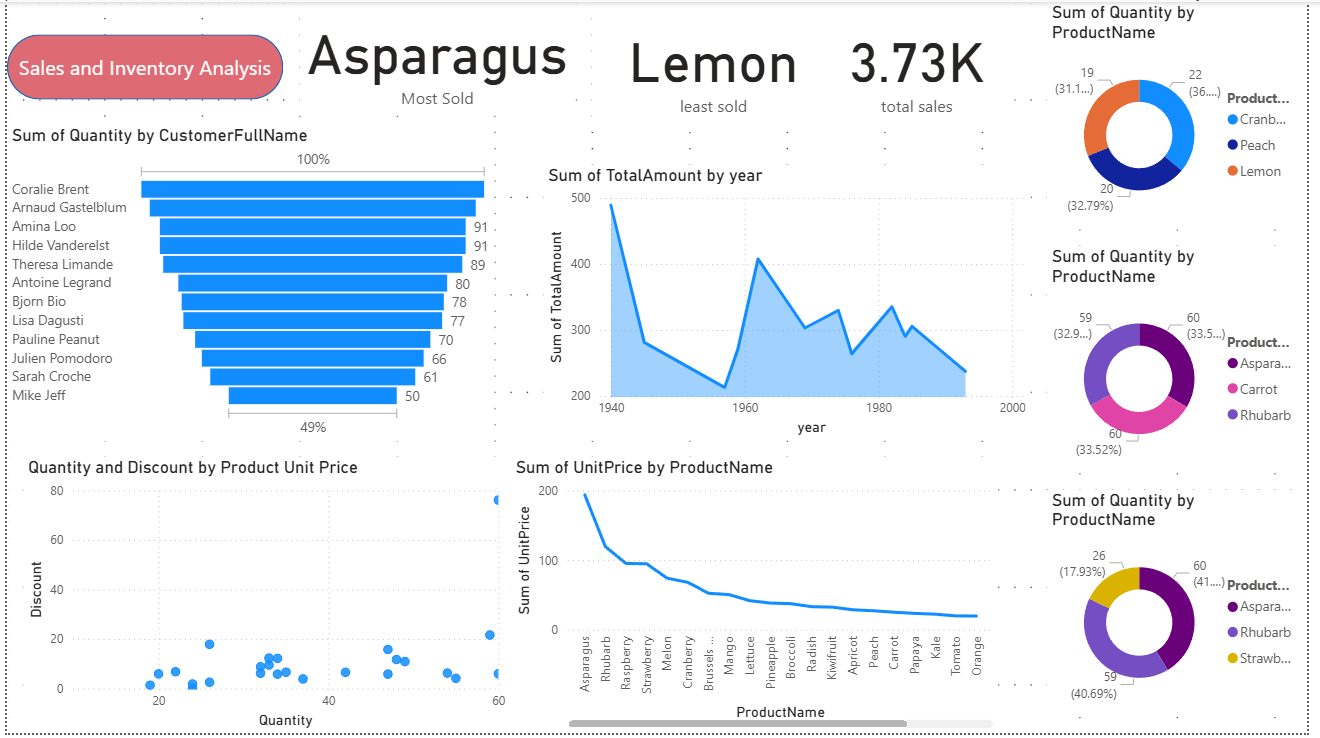

The dashboard page shown, as its layout file describes it:
{"tool":"powerbi","page":{"name":"Page 1","canvas":[1280,720],"ordinal":0},"visuals":[{"type":"funnel","fields":{"Category":["Customer.CustomerFullName"],"Y":["Sales.Quantity"]},"box":[0,120,480,312],"z":0},{"type":"areaChart","fields":{"Category":["Customer.year"],"Y":["Sales.TotalAmount"]},"box":[528,160,480,272],"z":1000},{"type":"lineChart","fields":{"Category":["Product.ProductName"],"Y":["Sales.UnitPrice"]},"box":[496,448,480,272],"z":2000},{"type":"scatterChart","fields":{"Y":["Sales.Discount"],"X":["Sales.Quantity"],"Category":["Product.ProductUnitPrice"]},"box":[16,448,480,272],"z":3000},{"type":"donutChart","fields":{"Category":["Product.ProductName"],"Y":["Sales.Quantity"]},"box":[1024,0,256,224],"z":4000},{"type":"donutChart","fields":{"Category":["Product.ProductName"],"Y":["Sales.Quantity"]},"box":[1024,240,256,224],"z":5000},{"type":"donutChart","fields":{"Category":["Product.ProductName"],"Y":["Sales.Quantity"]},"box":[1024,480,256,224],"z":6000},{"type":"card","fields":{"Values":["Product.ProductName"]},"box":[288,0,272,112],"z":7000},{"type":"card","fields":{"Values":["Product.ProductName"]},"box":[576,0,240,128],"z":8000},{"type":"card","fields":{"Values":["Sales.total sales"]},"box":[800,0,192,128],"z":9000},{"type":"shape","box":[0,32,272,64],"z":10000}]}

Visuals, with their boxes in screenshot pixels (x1, y1, x2, y2), scaled from the page's 1280x720 canvas onto the 1320x738 screenshot:
funnel - Customer.CustomerFullName x Sales.Quantity: box=[0, 123, 495, 443]
areaChart - Customer.year x Sales.TotalAmount: box=[544, 164, 1040, 443]
lineChart - Product.ProductName x Sales.UnitPrice: box=[512, 459, 1006, 737]
scatterChart - Sales.Discount x Sales.Quantity: box=[16, 459, 512, 737]
donutChart - Product.ProductName x Sales.Quantity: box=[1056, 0, 1319, 230]
donutChart - Product.ProductName x Sales.Quantity: box=[1056, 246, 1319, 476]
donutChart - Product.ProductName x Sales.Quantity: box=[1056, 492, 1319, 722]
card - Product.ProductName: box=[297, 0, 578, 115]
card - Product.ProductName: box=[594, 0, 842, 131]
card - Sales.total sales: box=[825, 0, 1023, 131]
shape: box=[0, 33, 280, 98]
